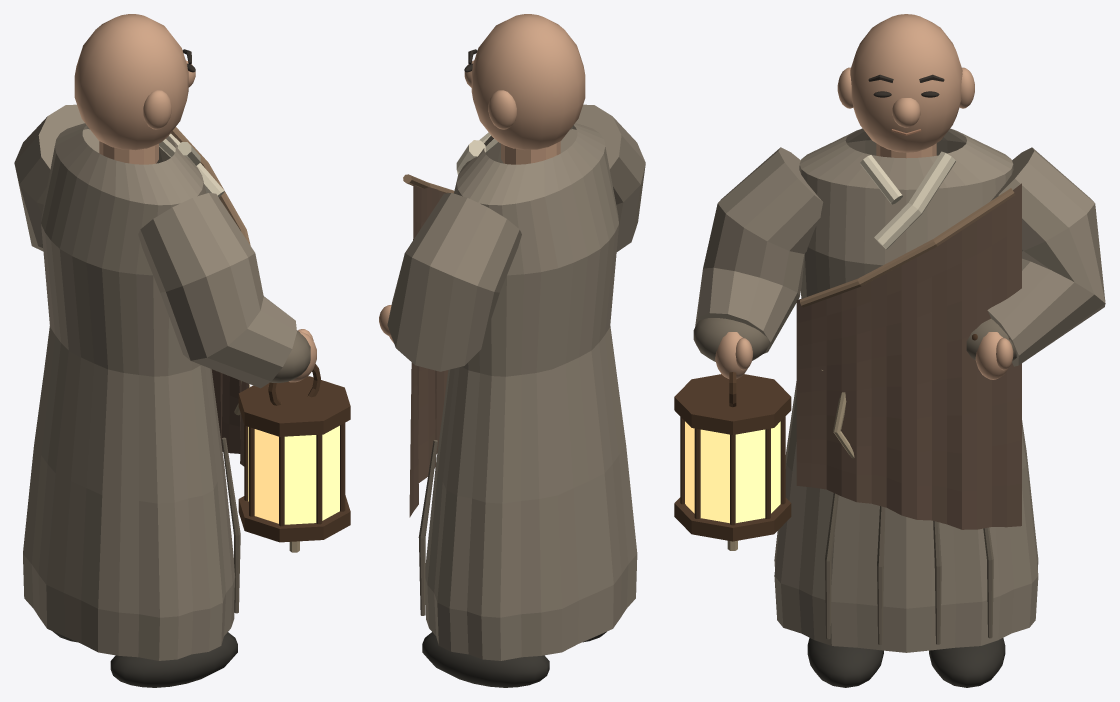
File: night_monk.glb
3 renders of one model, left to right at view 1: azimuth 30°, elevation 25°; view 2: azimuth 150°, elevation 25°; view 3: azimuth 270°, elevation 25°, orthographic.
Parts seen in each view (by area): view 1: Body, Arm_Right, HandLantern, Head, Arm_Left; view 2: Body, Arm_Left, Head, Arm_Right; view 3: Body, Arm_Right, HandLantern, Arm_Left, Head.
Part boxes in pixels (box(x1,y1,x2,y2)): Body: box(23, 123, 250, 687); Arm_Right: box(138, 193, 316, 388); HandLantern: box(238, 364, 350, 552); Head: box(74, 14, 195, 164); Arm_Left: box(14, 104, 99, 251); Body: box(403, 123, 637, 687); Arm_Left: box(379, 193, 521, 371); Head: box(464, 14, 585, 164); Arm_Right: box(560, 104, 645, 251); Body: box(774, 128, 1038, 687); Arm_Right: box(693, 147, 823, 378); HandLantern: box(674, 372, 791, 550); Arm_Left: box(966, 147, 1105, 379); Head: box(837, 14, 974, 158).
Bounding box in the file's own units: 0.4279 × 1.24 × 0.7452.
